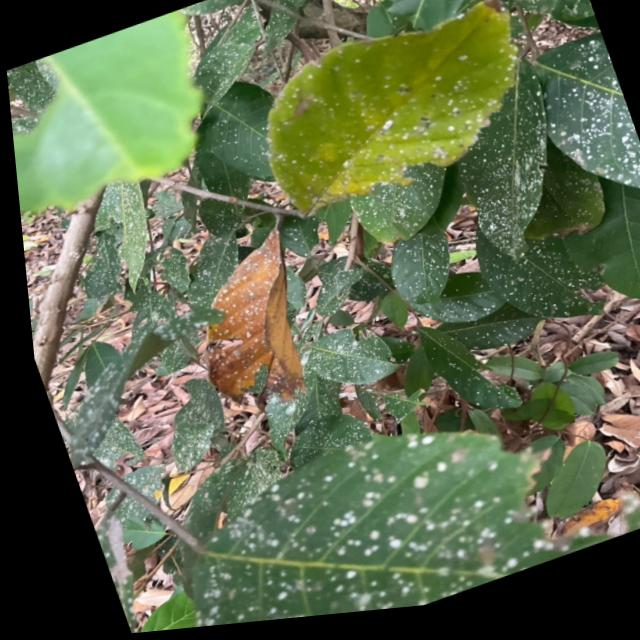Algal Leaf Spot: (196, 0, 640, 283), (205, 191, 632, 438), (152, 387, 523, 631), (89, 147, 308, 349), (82, 324, 285, 539)
